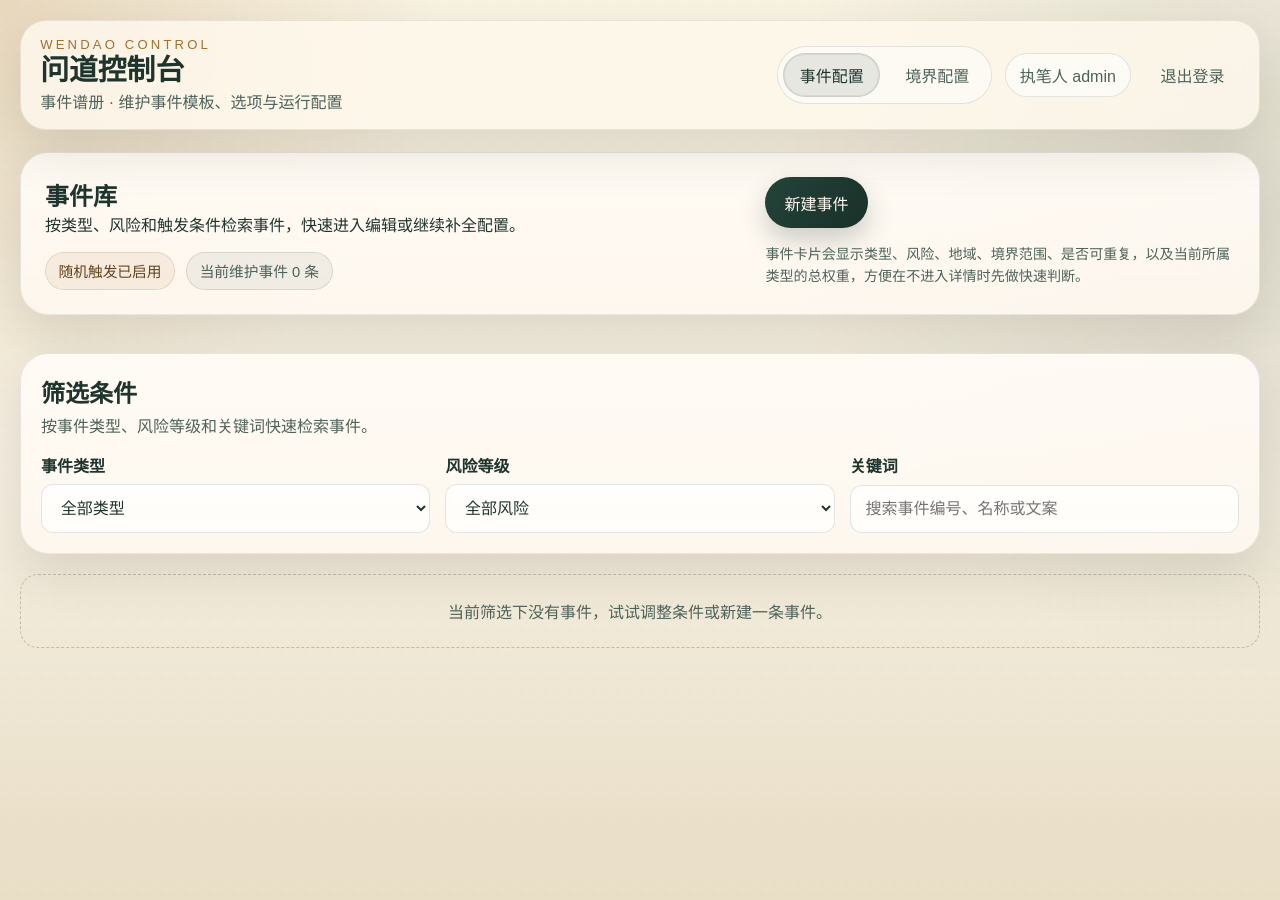
Test case: shows realm entry and switches to realm library
Step 1. Click the button "境界配置" → (937, 75), box [889,52,986,97]
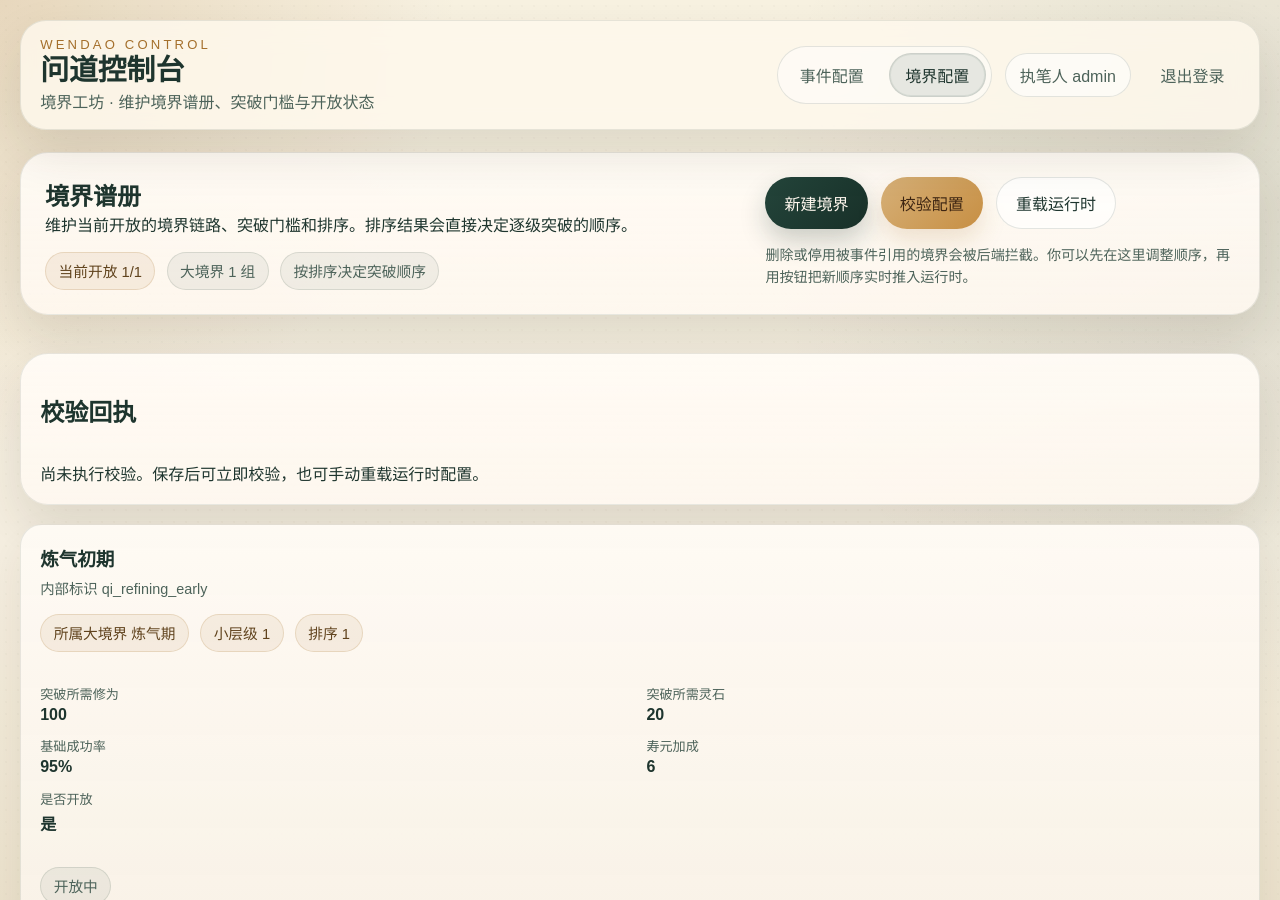
Check: the heading "境界谱册" is shown, box [45,184,141,210]
Check: the heading "炼气初期" is shown, box [40,550,114,570]
